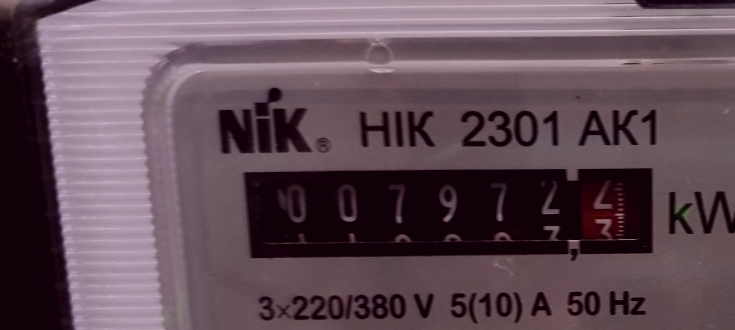0: (282, 180, 309, 222), (334, 179, 358, 221)
2: (537, 177, 561, 215), (589, 177, 612, 210)
3: (591, 214, 613, 239)
7: (485, 177, 510, 223), (384, 179, 408, 224)
9: (435, 179, 457, 222)
screen: (227, 154, 669, 270)
